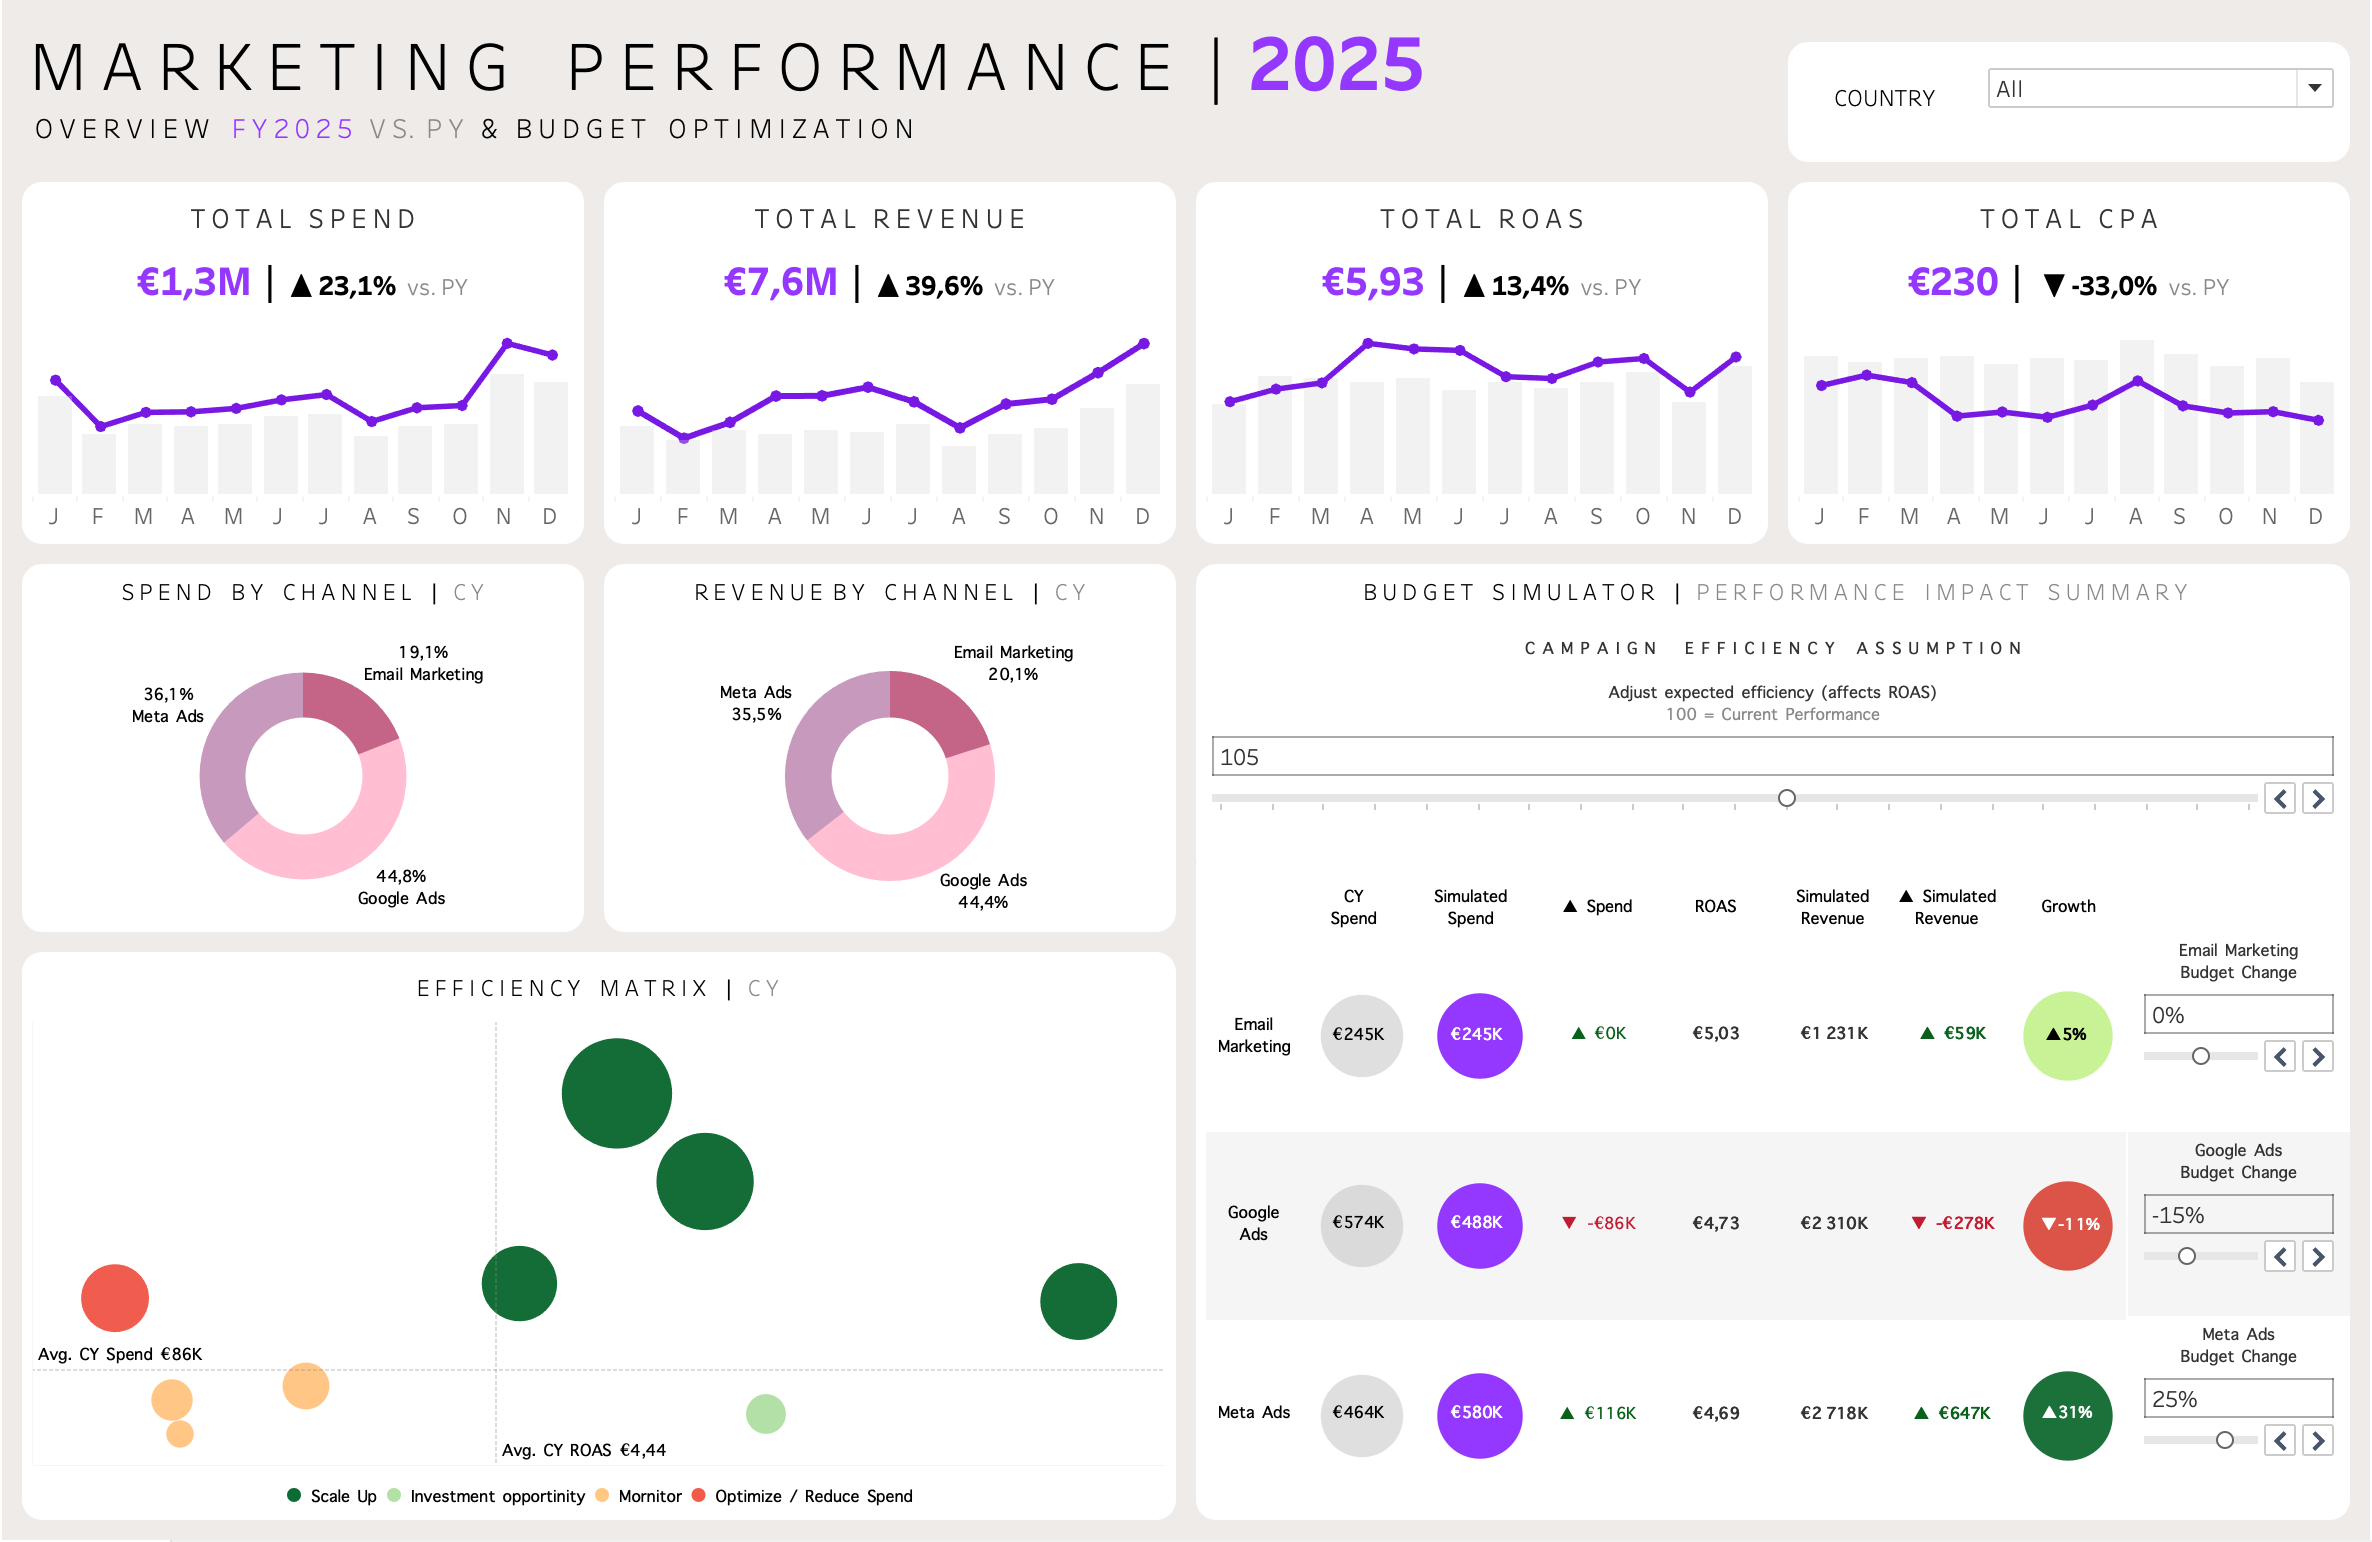

This screenshot's page, from the dashboard's own definition file:
{"tool":"tableau","page":{"name":"MARKETING DB","canvas":[1200,800],"ordinal":0},"visuals":[{"type":"text","box":[8,8,888,86]},{"type":"text","box":[896,8,102,86]},{"type":"parameter","param":"[Parameters].[Parameter 1]","box":[998,8,194,86]},{"type":"worksheet","title":"KPI Spend","mark":"Automatic","rows":["Calculation_0185146672168962","CY Spend (copy)_0185146672386053"],"cols":["date"],"box":[8,94,296,199]},{"type":"worksheet","title":"KPI Revenue","mark":"Automatic","rows":["Calculation_0185146671906817","CY Net Sales (copy)_0185146672320516"],"cols":["date"],"box":[304,94,296,199]},{"type":"worksheet","title":"KPI ROAS","mark":"Automatic","rows":["CY ADJ ROAS  (copy)_0185146676322321","Calculation_0185146672242691"],"cols":["date"],"box":[600,94,296,199]},{"type":"worksheet","title":"KPI CPA","mark":"Automatic","rows":["CY ADJ Cost Per Order (CPA) (copy)_0185146676563987","ADJ Cost Per Order (CPA) (copy)_0185146676187152"],"cols":["date"],"box":[896,94,296,199]},{"type":"text","box":[8,293,296,33]},{"type":"text","box":[304,293,296,33]},{"type":"text","box":[600,293,592,33]},{"type":"worksheet","title":"Channel Analysis (% Spend)","mark":"Pie","cols":["Calculation_0050319124713486","Calculation_0050319125393425"],"box":[8,326,296,161]},{"type":"worksheet","title":"Channel Analysis (% Sales)","mark":"Pie","cols":["Calculation_0185146673668103","Calculation_0185146673700873"],"box":[304,326,296,161]},{"type":"parameter","param":"[Parameters].[Email Marketing Budget Change (copy)_0052037343178764]","box":[600,326,592,123.4]},{"type":"blank","box":[600,449.4,62,35.1]},{"type":"text","box":[662,449.4,44,35.1]},{"type":"text","box":[706,449.4,73,35.1]},{"type":"text","box":[779,449.4,53,35.1]},{"type":"text","box":[832,449.4,66,35.1]},{"type":"text","box":[898,449.4,51,35.1]},{"type":"text","box":[949,449.4,63,35.1]},{"type":"text","box":[1012,449.4,59,35.1]},{"type":"blank","box":[1071,449.4,121,35.1]},{"type":"worksheet","title":"Budget Simulator","mark":"Shape","rows":["channel"],"cols":["Calculation_0052037355134996","Calculation_0052037356093462","Calculation_0052037356490776","Calculation_0052037356679194","Calculation_0052037356802076","Calculation_0052037356912670","Calculation_0052037357027360"],"box":[600,484.6,471,307.4]},{"type":"parameter","param":"[Parameters].[Google Ads Budget Change (copy)_0052037339488264]","box":[1071,484.6,121,101]},{"type":"text","box":[8,487,592,35]},{"type":"worksheet","title":"Efficiency Matrix","mark":"Automatic","rows":["Calculation_0185146672168962"],"cols":["Calculation_0185146672242691"],"box":[8,522,592,238]},{"type":"parameter","param":"[Parameters].[Parameter 2]","box":[1071,585.6,121,93.3]},{"type":"parameter","param":"[Parameters].[Email Marketing Budget Change (copy)_0052037339627529]","box":[1071,678.9,121,113.1]},{"type":"text","box":[8,760,592,32]}]}

Visuals, with their boxes in screenshot pixels (x1, y1, x2, y2), scaled from the page's 1200x800 canvas onto the 2372x1542 screenshot:
text: region(16, 15, 1771, 181)
text: region(1771, 15, 1973, 181)
parameter: region(1973, 15, 2356, 181)
"KPI Spend" worksheet: region(16, 181, 601, 565)
"KPI Revenue" worksheet: region(601, 181, 1186, 565)
"KPI ROAS" worksheet: region(1186, 181, 1771, 565)
"KPI CPA" worksheet: region(1771, 181, 2356, 565)
text: region(16, 565, 601, 628)
text: region(601, 565, 1186, 628)
text: region(1186, 565, 2356, 628)
"Channel Analysis (% Spend)" worksheet (Pie marks): region(16, 628, 601, 939)
"Channel Analysis (% Sales)" worksheet (Pie marks): region(601, 628, 1186, 939)
parameter: region(1186, 628, 2356, 866)
blank: region(1186, 866, 1309, 934)
text: region(1309, 866, 1396, 934)
text: region(1396, 866, 1540, 934)
text: region(1540, 866, 1645, 934)
text: region(1645, 866, 1775, 934)
text: region(1775, 866, 1876, 934)
text: region(1876, 866, 2000, 934)
text: region(2000, 866, 2117, 934)
blank: region(2117, 866, 2356, 934)
"Budget Simulator" worksheet (Shape marks): region(1186, 934, 2117, 1527)
parameter: region(2117, 934, 2356, 1129)
text: region(16, 939, 1186, 1006)
"Efficiency Matrix" worksheet: region(16, 1006, 1186, 1465)
parameter: region(2117, 1129, 2356, 1309)
parameter: region(2117, 1309, 2356, 1527)
text: region(16, 1465, 1186, 1527)
